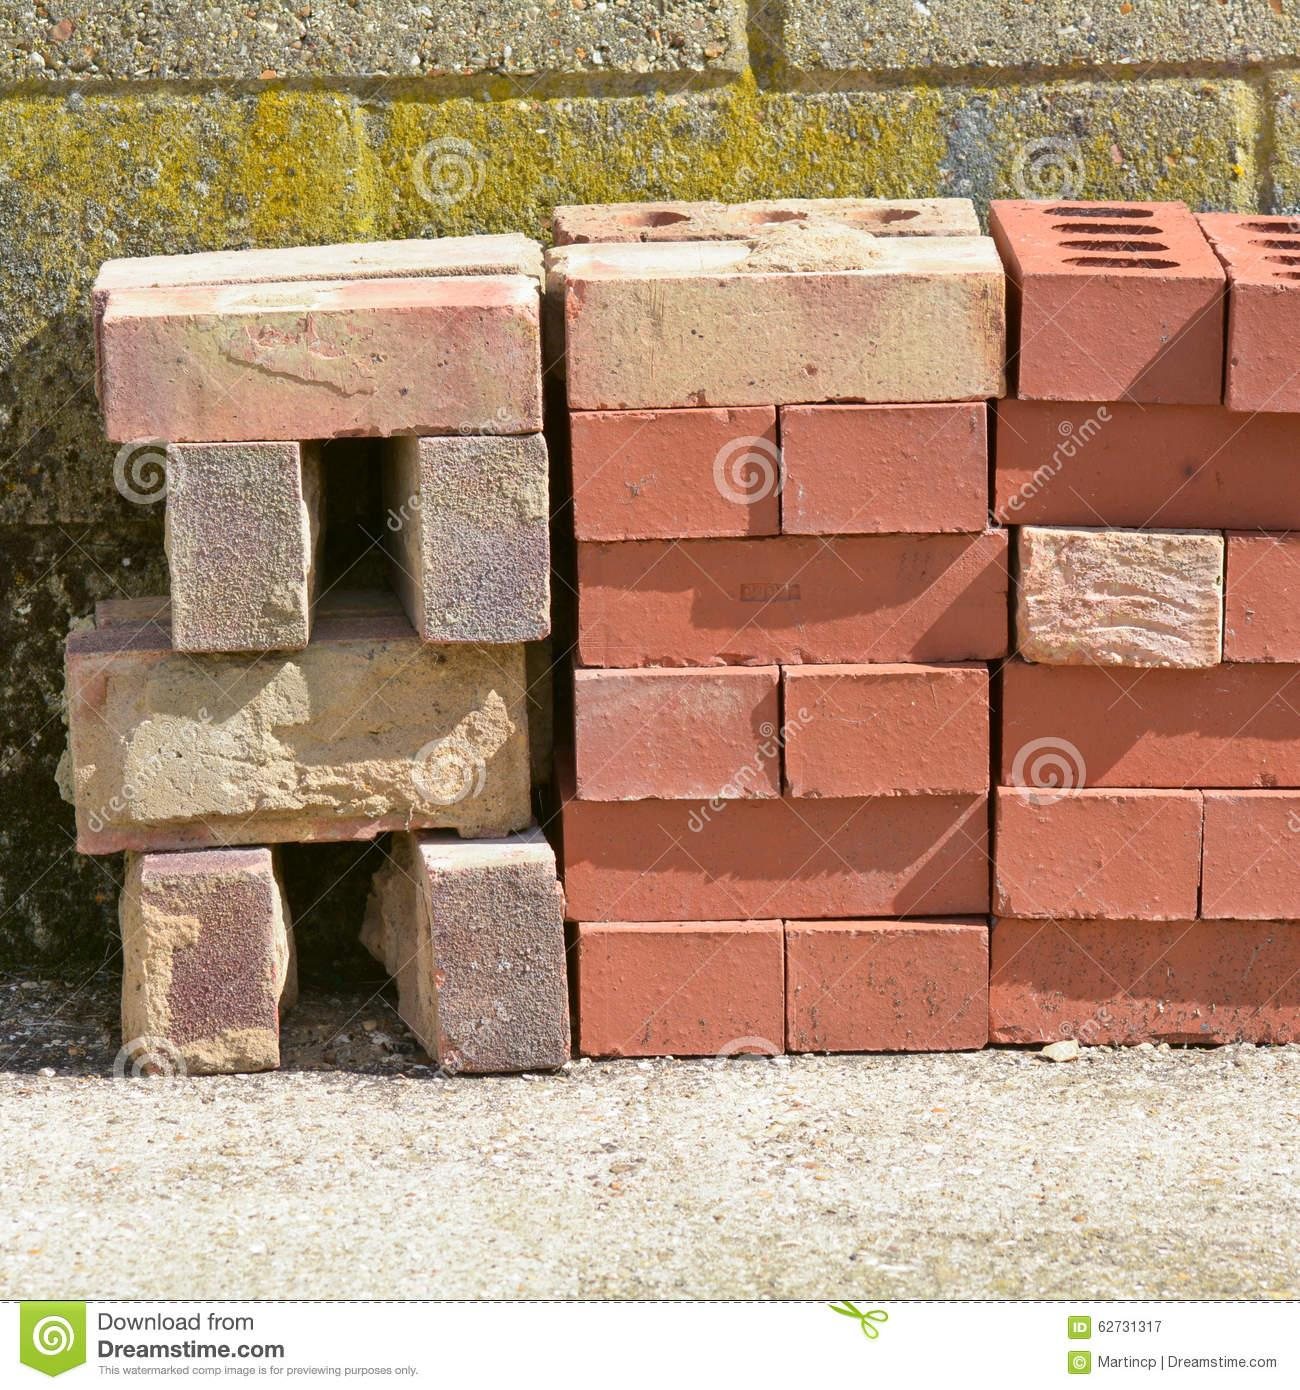brick: (65, 642, 529, 851), (104, 303, 541, 442), (564, 272, 1006, 408), (579, 528, 1008, 666), (564, 793, 990, 921), (993, 398, 1300, 526), (991, 919, 1300, 1042), (1002, 661, 1300, 787), (130, 868, 281, 1072), (428, 859, 569, 1074), (166, 443, 309, 650), (1015, 528, 1222, 667), (573, 406, 780, 540), (782, 403, 987, 535), (1015, 272, 1225, 401), (420, 434, 549, 640), (786, 669, 990, 796), (996, 794, 1201, 919), (577, 673, 780, 799), (580, 931, 783, 1055), (787, 927, 988, 1052), (1202, 794, 1300, 919)
